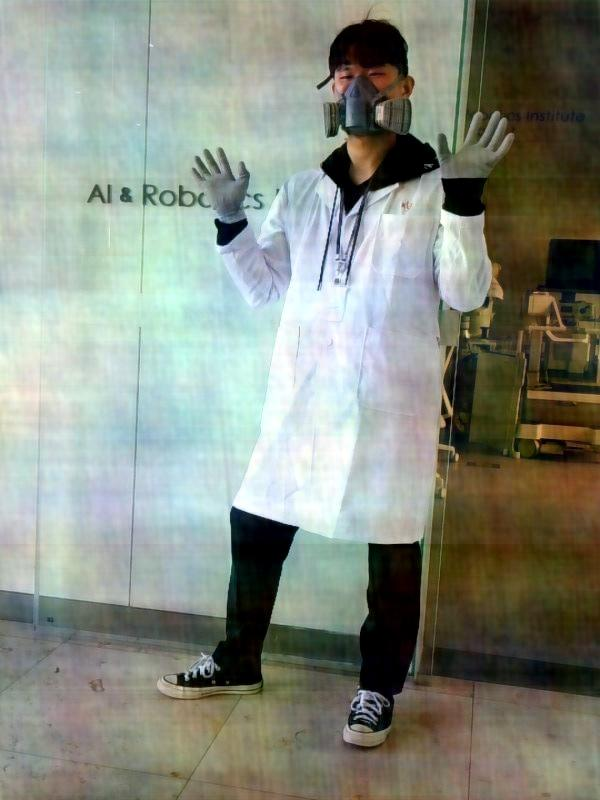Lab_coat: (214, 167, 494, 546)
